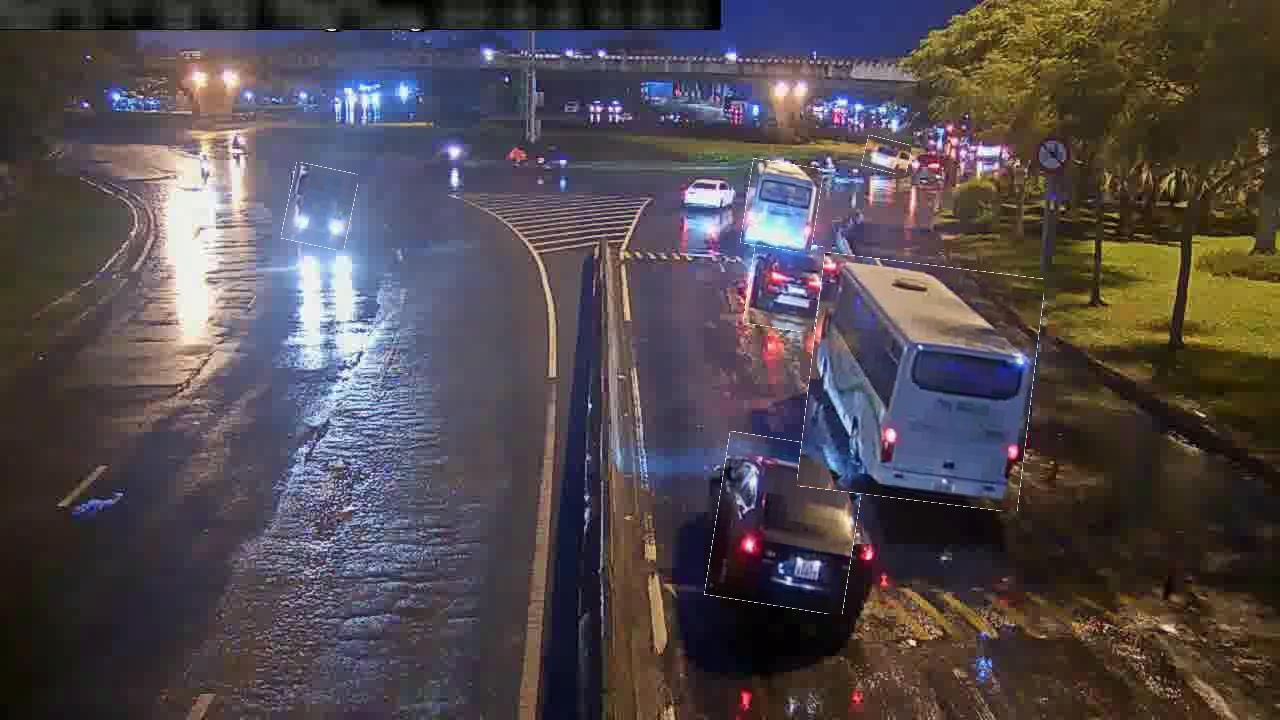14: (804, 259, 1039, 506), (743, 161, 820, 251)
8: (284, 165, 356, 249)
container: (710, 436, 861, 611), (746, 239, 823, 331), (679, 172, 733, 208), (863, 138, 911, 173)
